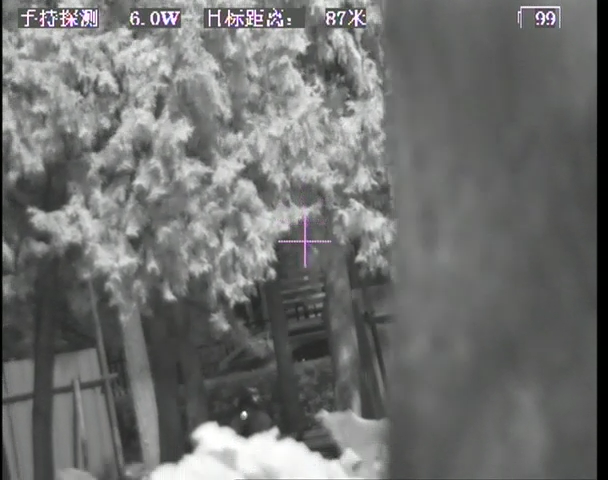my: (239, 408, 250, 422)
